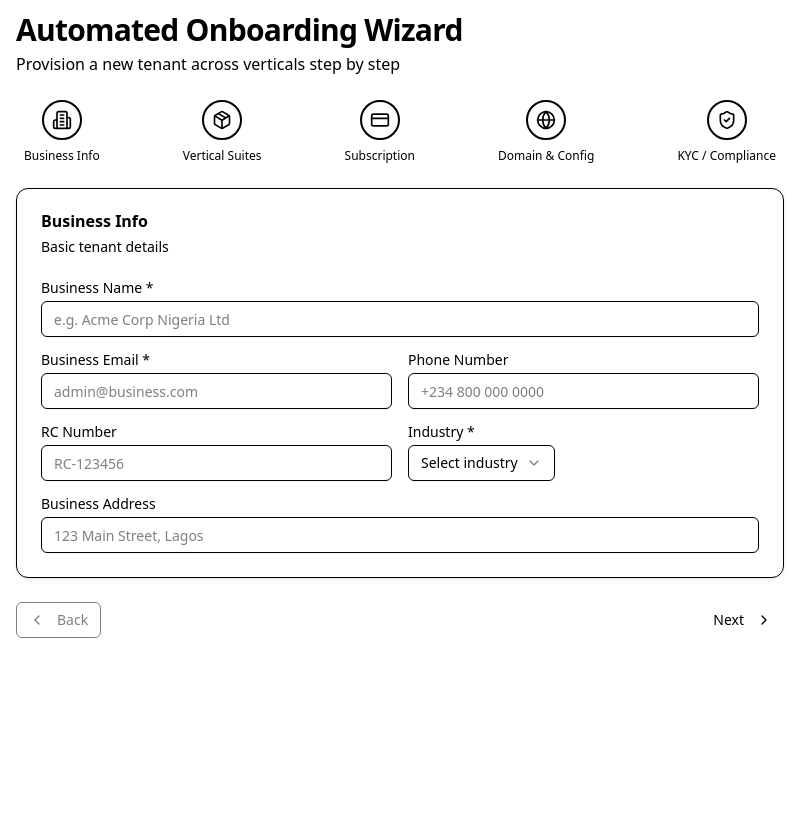
Automated Onboarding Wizard (QA-SUP-3) › toggles a vertical when its card is clicked
The image size is (804, 822).
Note: Advance to step 2
Type "Acme" into the field labelled "Business Name *" at (400, 319), box [41, 301, 759, 337]
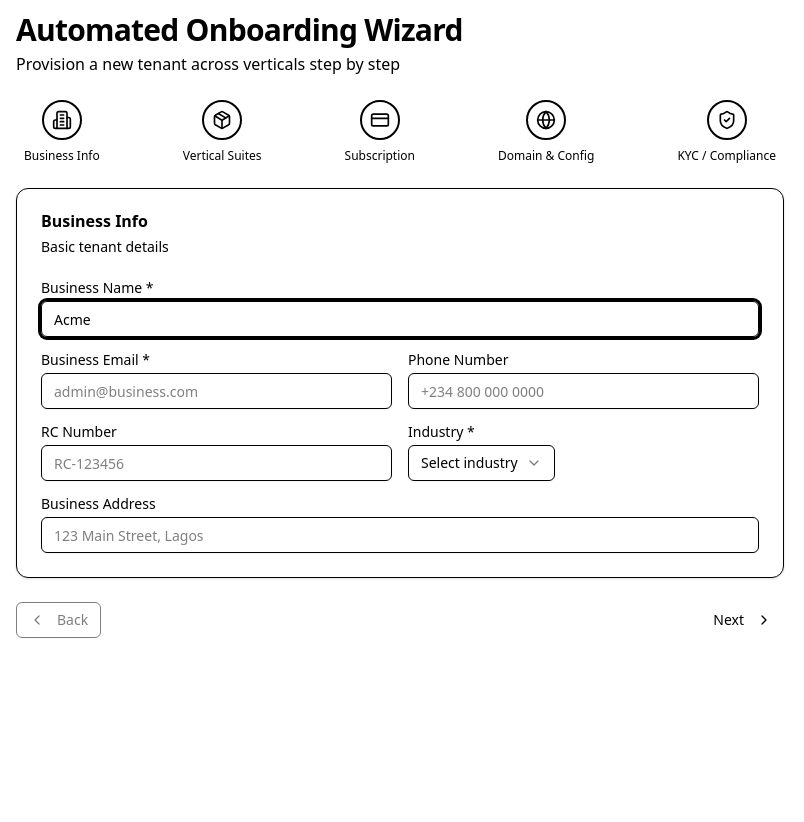
Type "a@b.com" into the field labelled "Business Email *" at (216, 391), box [41, 373, 392, 409]
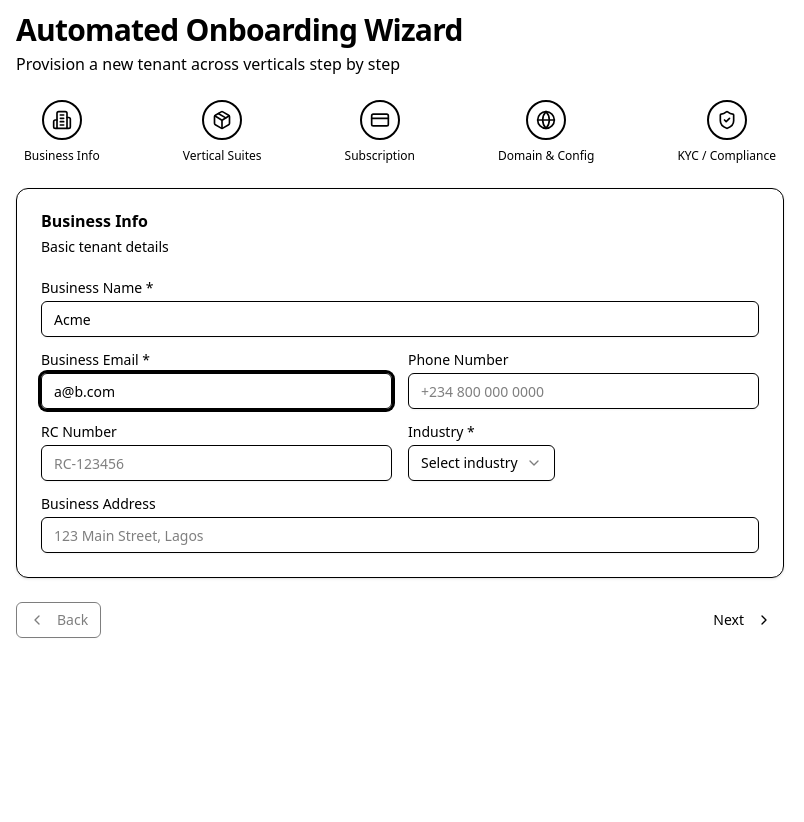
Click the dropdown at (481, 463), box [408, 445, 555, 481]
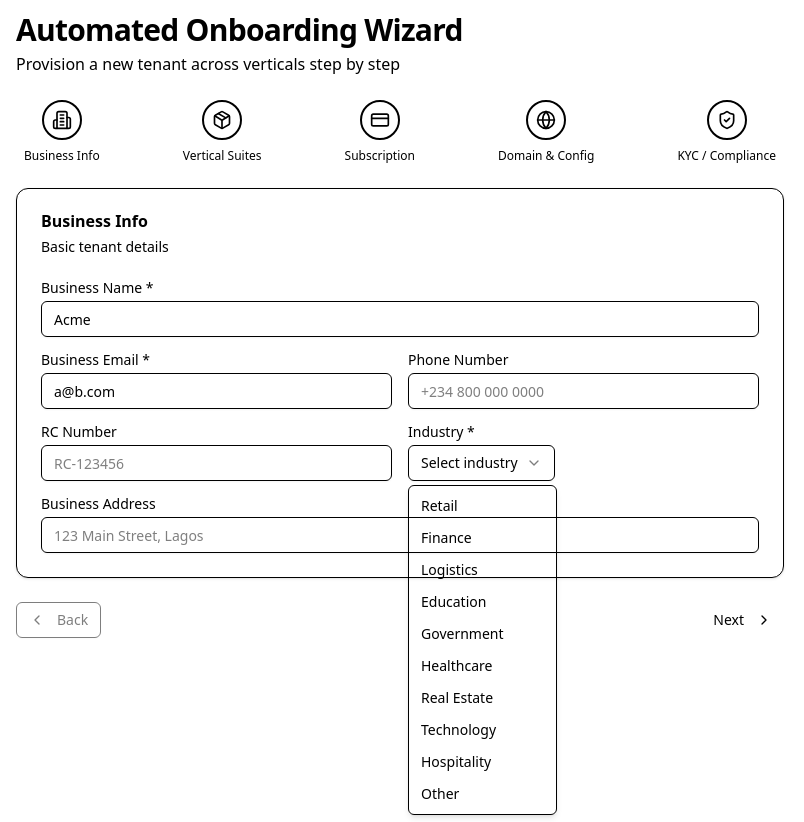
Click the option "Retail" at (439, 506), box [421, 496, 458, 515]
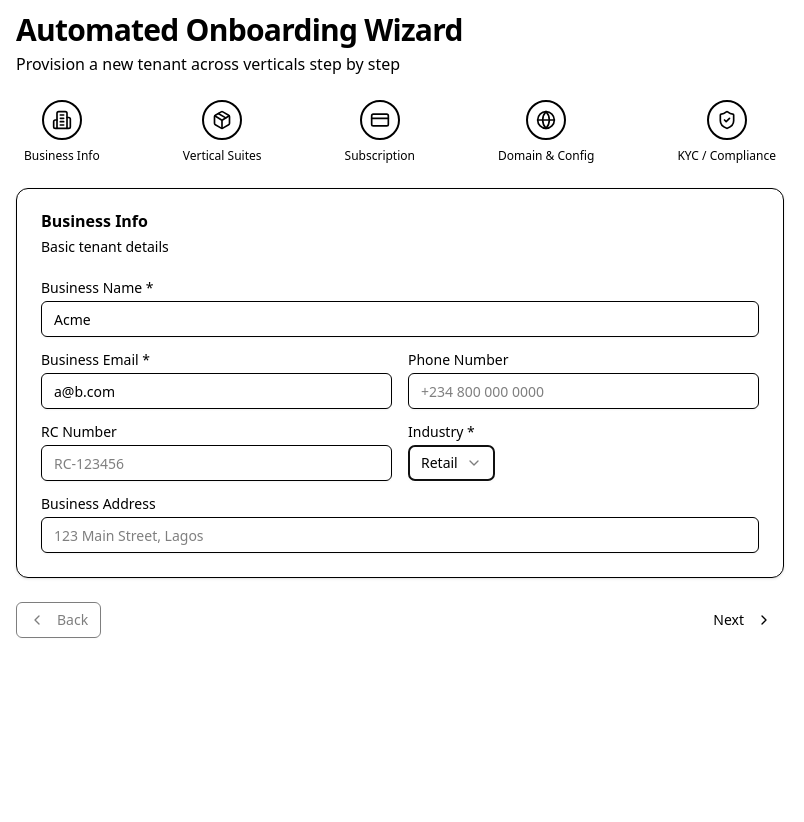
Click the button "Next" at (743, 620), box [701, 602, 784, 638]
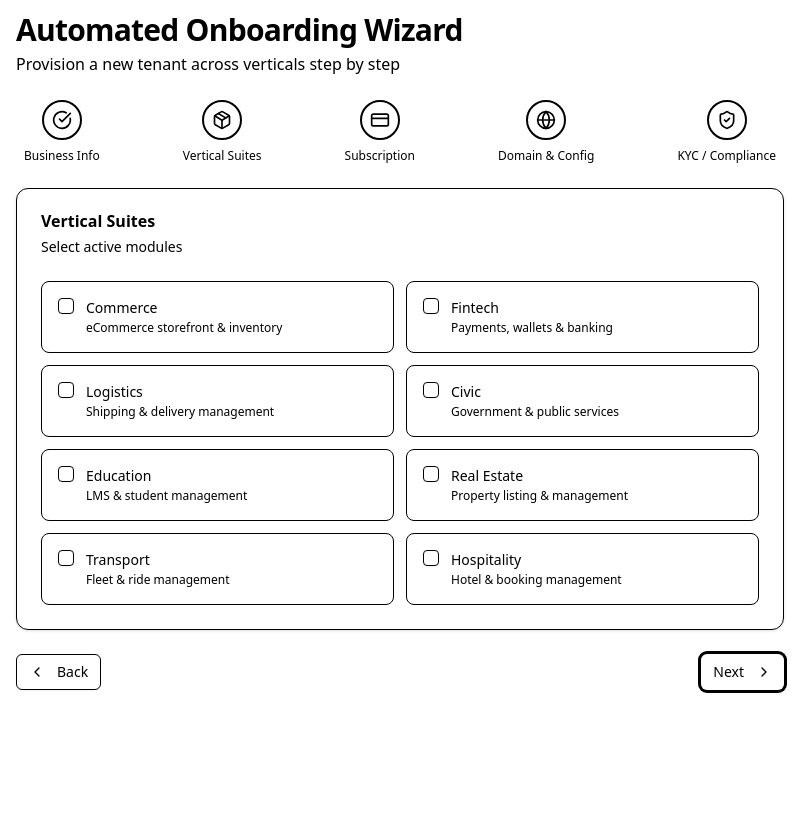
Result: the text "Commerce" is shown
Note: Click Commerce card
Click the text "Commerce" at (122, 308), box [86, 298, 158, 317]
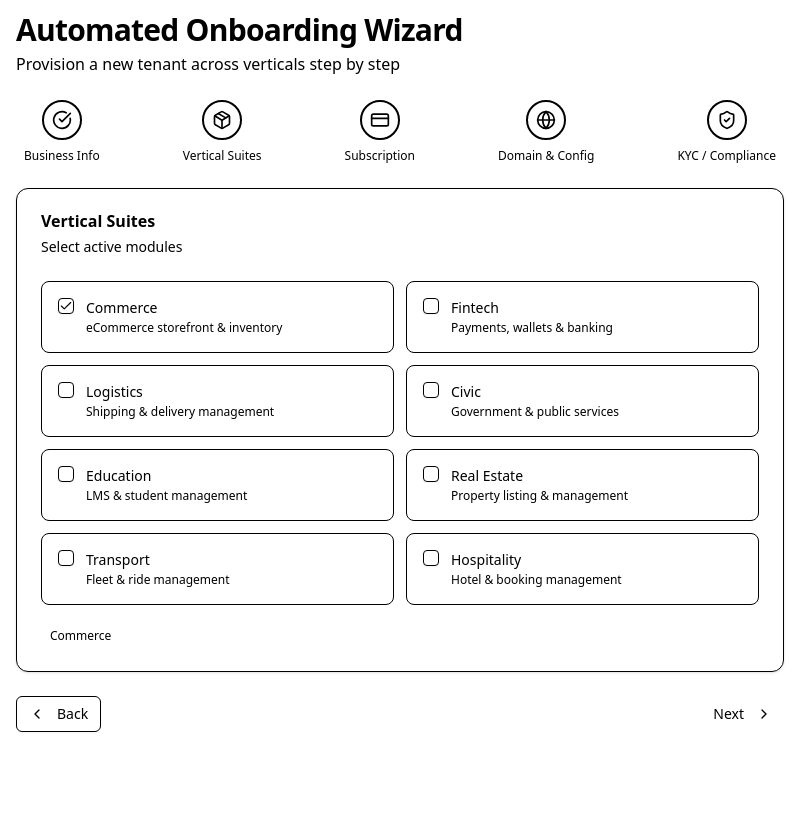
Result: the text "commerce" is shown at [50, 627, 111, 644]
